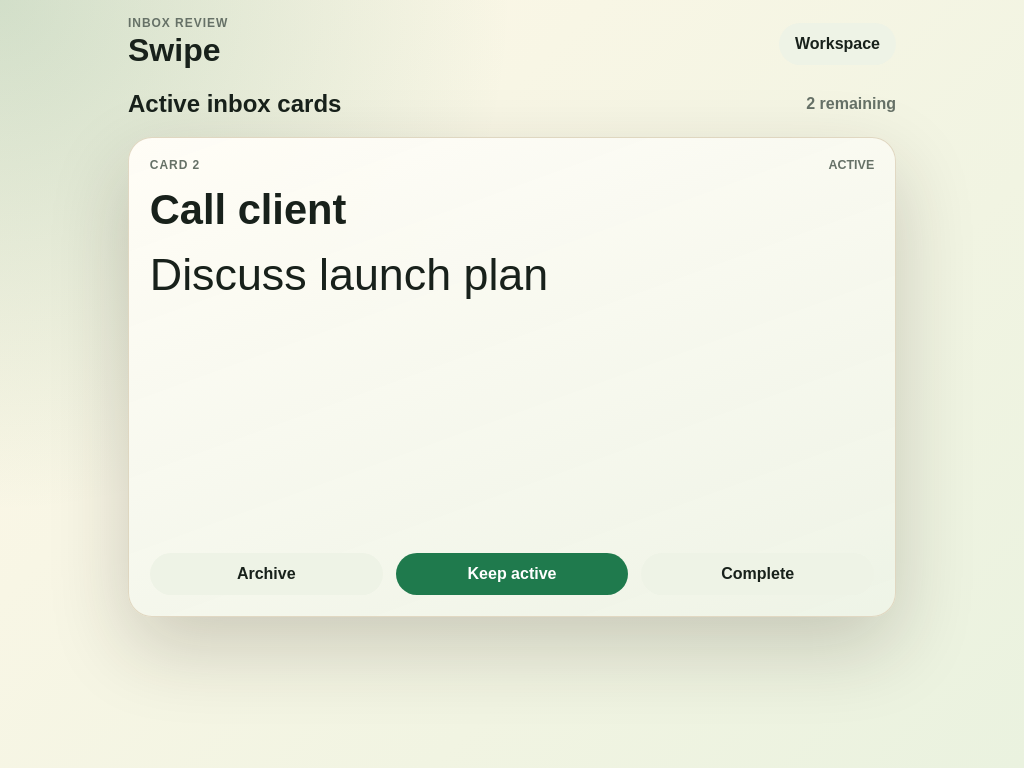
Test: SwipeApp › keeps the current card active and skips it in this browser tab
The image size is (1024, 768).
Click the button "Keep active" at coordinates (512, 574), box x1=396 y1=553 x2=628 y2=595
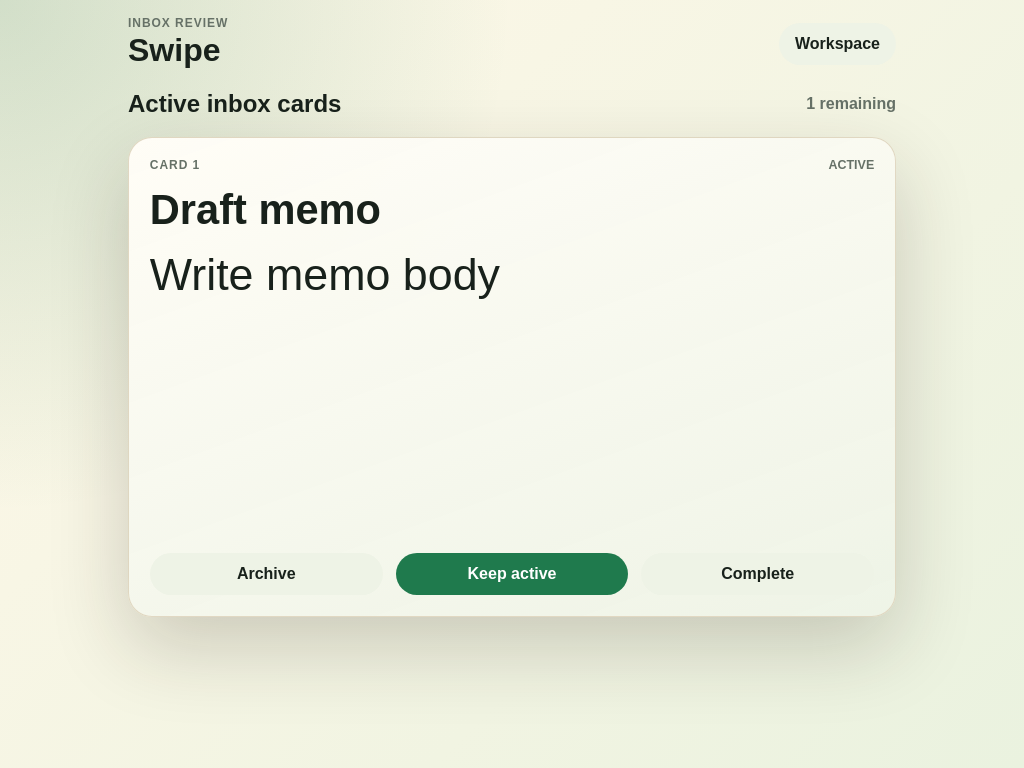
Check: the heading "Draft memo" is shown, box x1=150 y1=186 x2=381 y2=233
